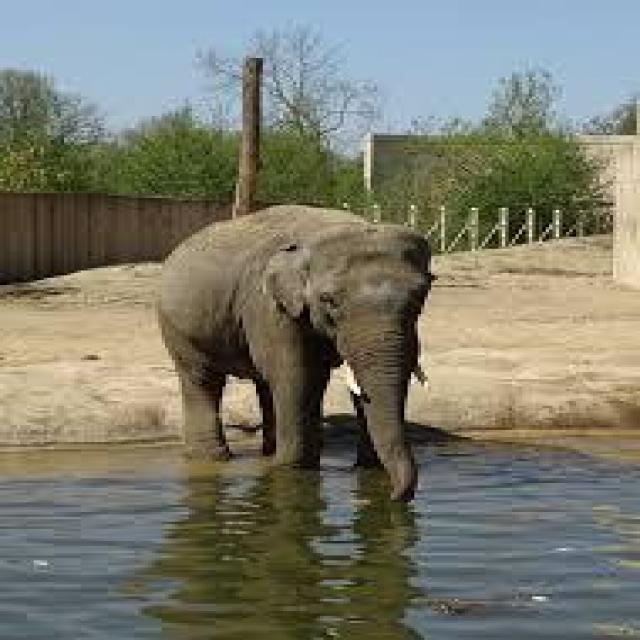Elephant: (162, 213, 451, 466)
